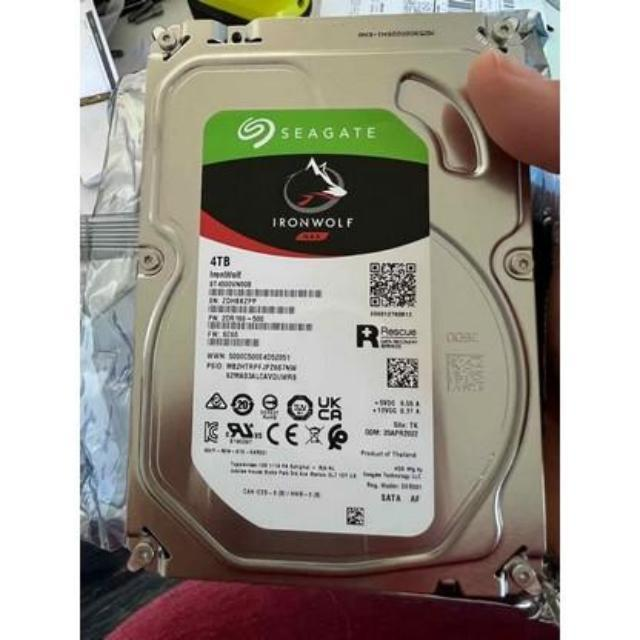DISK: (122, 18, 552, 593)
